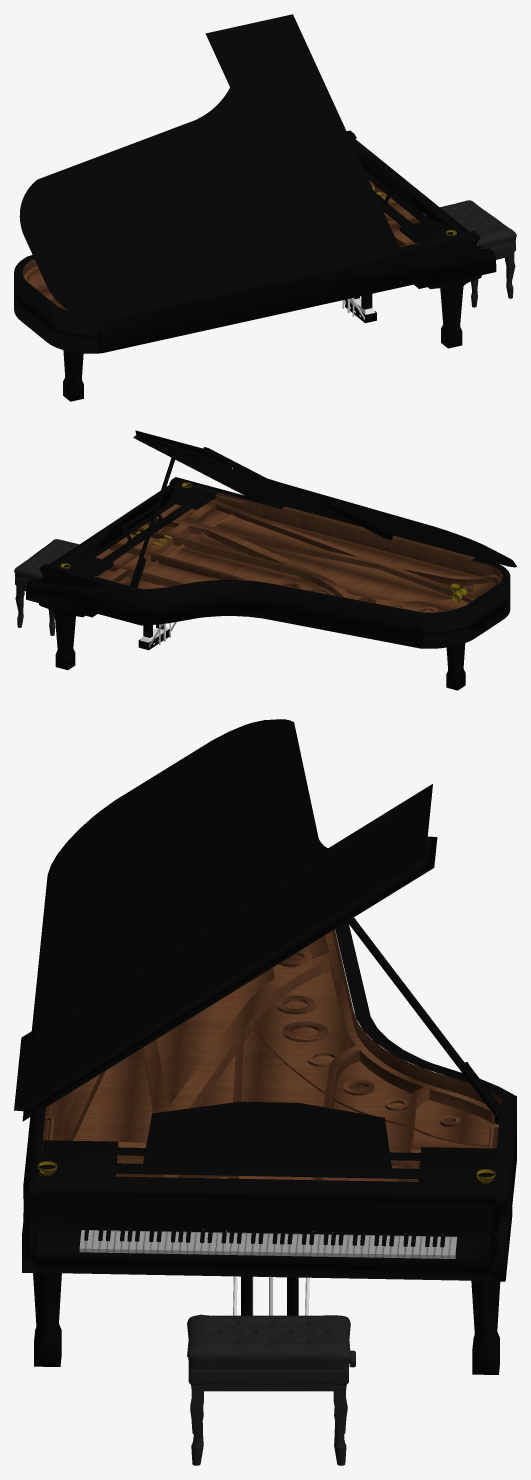
The model's file is vrseat_grand_piano.glb.
3 renders of one model, top to bottom at view 1: azimuth 30°, elevation 25°; view 2: azimuth 150°, elevation 25°; view 3: azimuth 270°, elevation 25°, orthographic. The views are drawn at different scales.
Visible parts, largest first — view 1: polySurface305_lambert102_0, chair_Artist, polySurface175_lambert107_0; view 2: polySurface305_lambert102_0, polySurface175_lambert107_0, chair_Artist, polySurface182_lambert105_0, Pino:polySurface174_lambert108_0; view 3: polySurface305_lambert102_0, polySurface175_lambert107_0, chair_Artist, polySurface169_lambert103_0, polySurface1_lambert104_0.
Part boxes in pixels (box(x1,y1,x2,y2)): polySurface305_lambert102_0: box(14, 14, 496, 401); chair_Artist: box(440, 200, 516, 307); polySurface175_lambert107_0: box(22, 180, 426, 310); polySurface305_lambert102_0: box(26, 430, 516, 690); polySurface175_lambert107_0: box(94, 484, 502, 612); chair_Artist: box(14, 539, 79, 635); polySurface182_lambert105_0: box(60, 482, 467, 602); Pino:polySurface174_lambert108_0: box(140, 622, 176, 647); polySurface305_lambert102_0: box(14, 719, 516, 1374); polySurface175_lambert107_0: box(39, 929, 501, 1181); chair_Artist: box(187, 1314, 355, 1465); polySurface169_lambert103_0: box(79, 1230, 457, 1258); polySurface1_lambert104_0: box(84, 1227, 445, 1247).
Bounding box in the file's own units: 4.65 × 2.48 × 2.37.
Materials: 6 (2 with a texture image).
